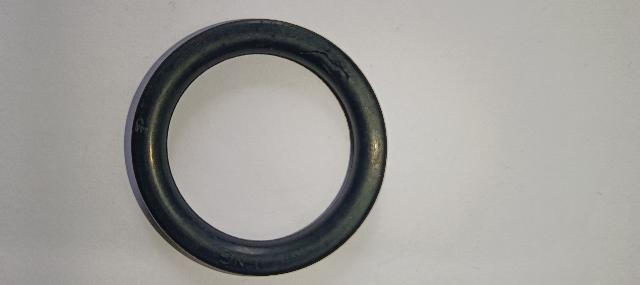scratch: (302, 36, 362, 92)
